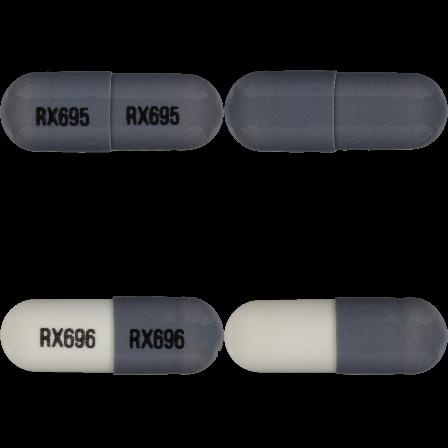63304-695: (0, 0, 224, 224)
